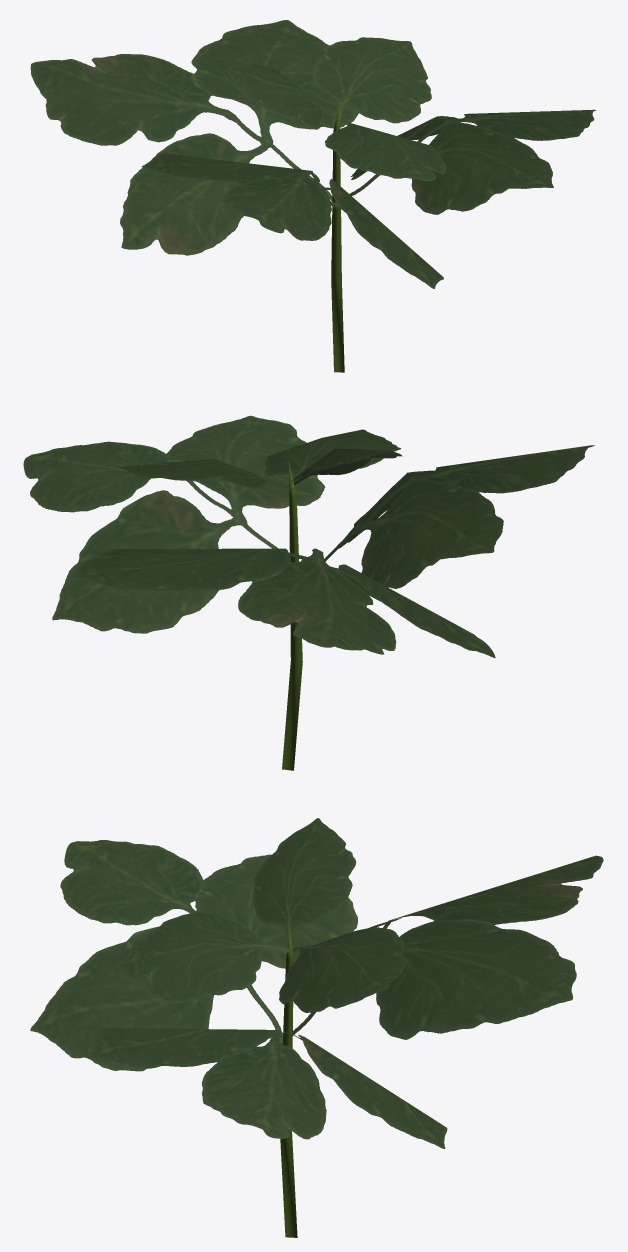
The model's file is MSH_fwOF_ForestPlant_B_05.fbx.
3 renders of one model, top to bottom at view 1: azimuth 30°, elevation 25°; view 2: azimuth 150°, elevation 25°; view 3: azimuth 270°, elevation 25°, orthographic. The views are drawn at different scales.
Visible parts, largest first — view 1: MSH_fwOF_ForestPlant_B_05; view 2: MSH_fwOF_ForestPlant_B_05; view 3: MSH_fwOF_ForestPlant_B_05.
Boxes of the visible parts, bbox=[...] form: MSH_fwOF_ForestPlant_B_05: bbox=[30, 20, 595, 372]; MSH_fwOF_ForestPlant_B_05: bbox=[23, 415, 594, 770]; MSH_fwOF_ForestPlant_B_05: bbox=[30, 818, 603, 1237].
Size of the model in its own units: 0.3277 by 0.2174 by 0.3201.
